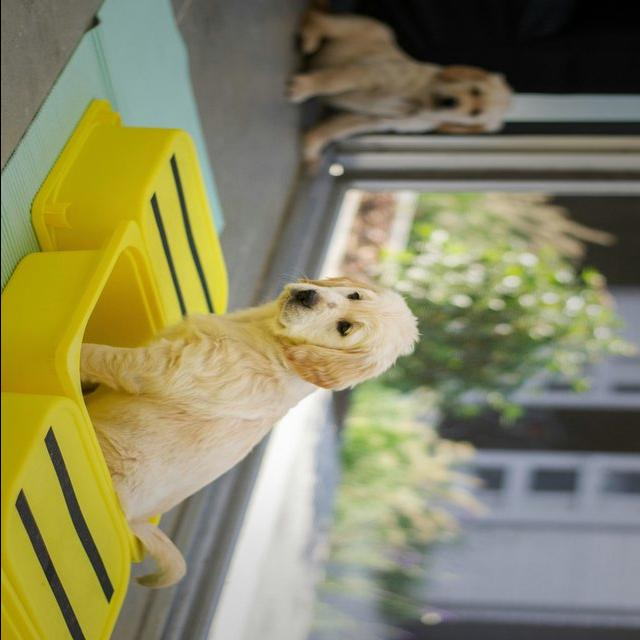retriever: (79, 274, 421, 589), (285, 8, 514, 166)
